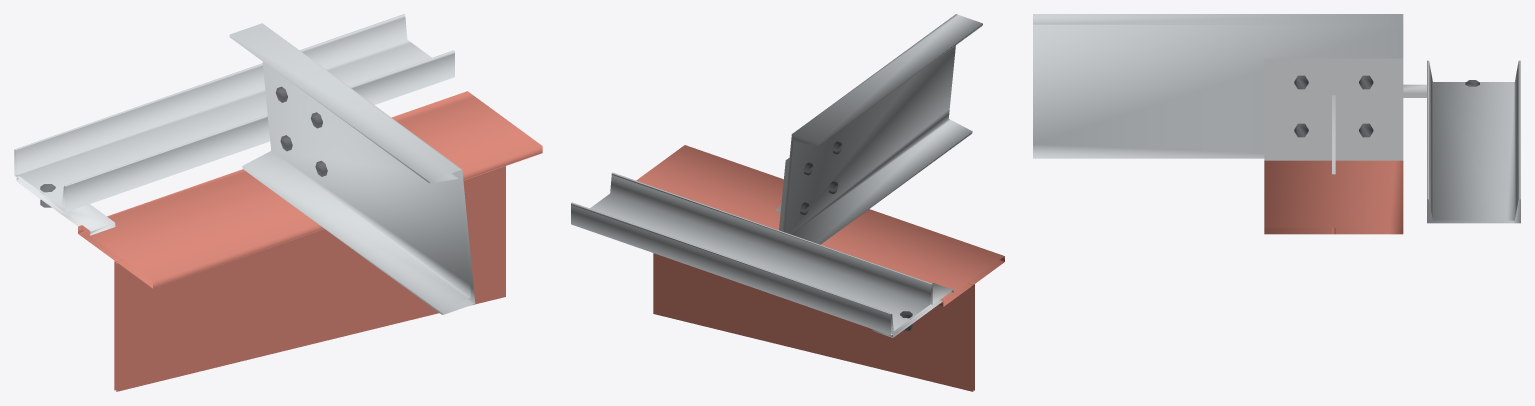
File: purlin_gable.glb
3 renders of one model, left to right at view 1: azimuth 30°, elevation 25°; view 2: azimuth 150°, elevation 25°; view 3: azimuth 270°, elevation 25°, orthographic. The views are drawn at different scales.
Visible parts, largest first — view 1: purlin, frame, cleat, bolt; view 2: purlin, frame, cleat, bolt; view 3: purlin, cleat, frame, bolt.
Part boxes in pixels (x1,y1,x2,y2): purlin: (14, 14, 475, 314); frame: (78, 91, 542, 391); cleat: (16, 176, 115, 235); bolt: (40, 86, 327, 207); purlin: (571, 14, 982, 335); frame: (636, 145, 1004, 391); cleat: (776, 158, 953, 337); bolt: (799, 141, 912, 330); purlin: (1033, 14, 1520, 223); cleat: (1264, 58, 1426, 174); frame: (1264, 160, 1403, 234); bolt: (1294, 75, 1479, 137).
Bounding box in the file's own units: 0.9 × 0.6525 × 1.05.
